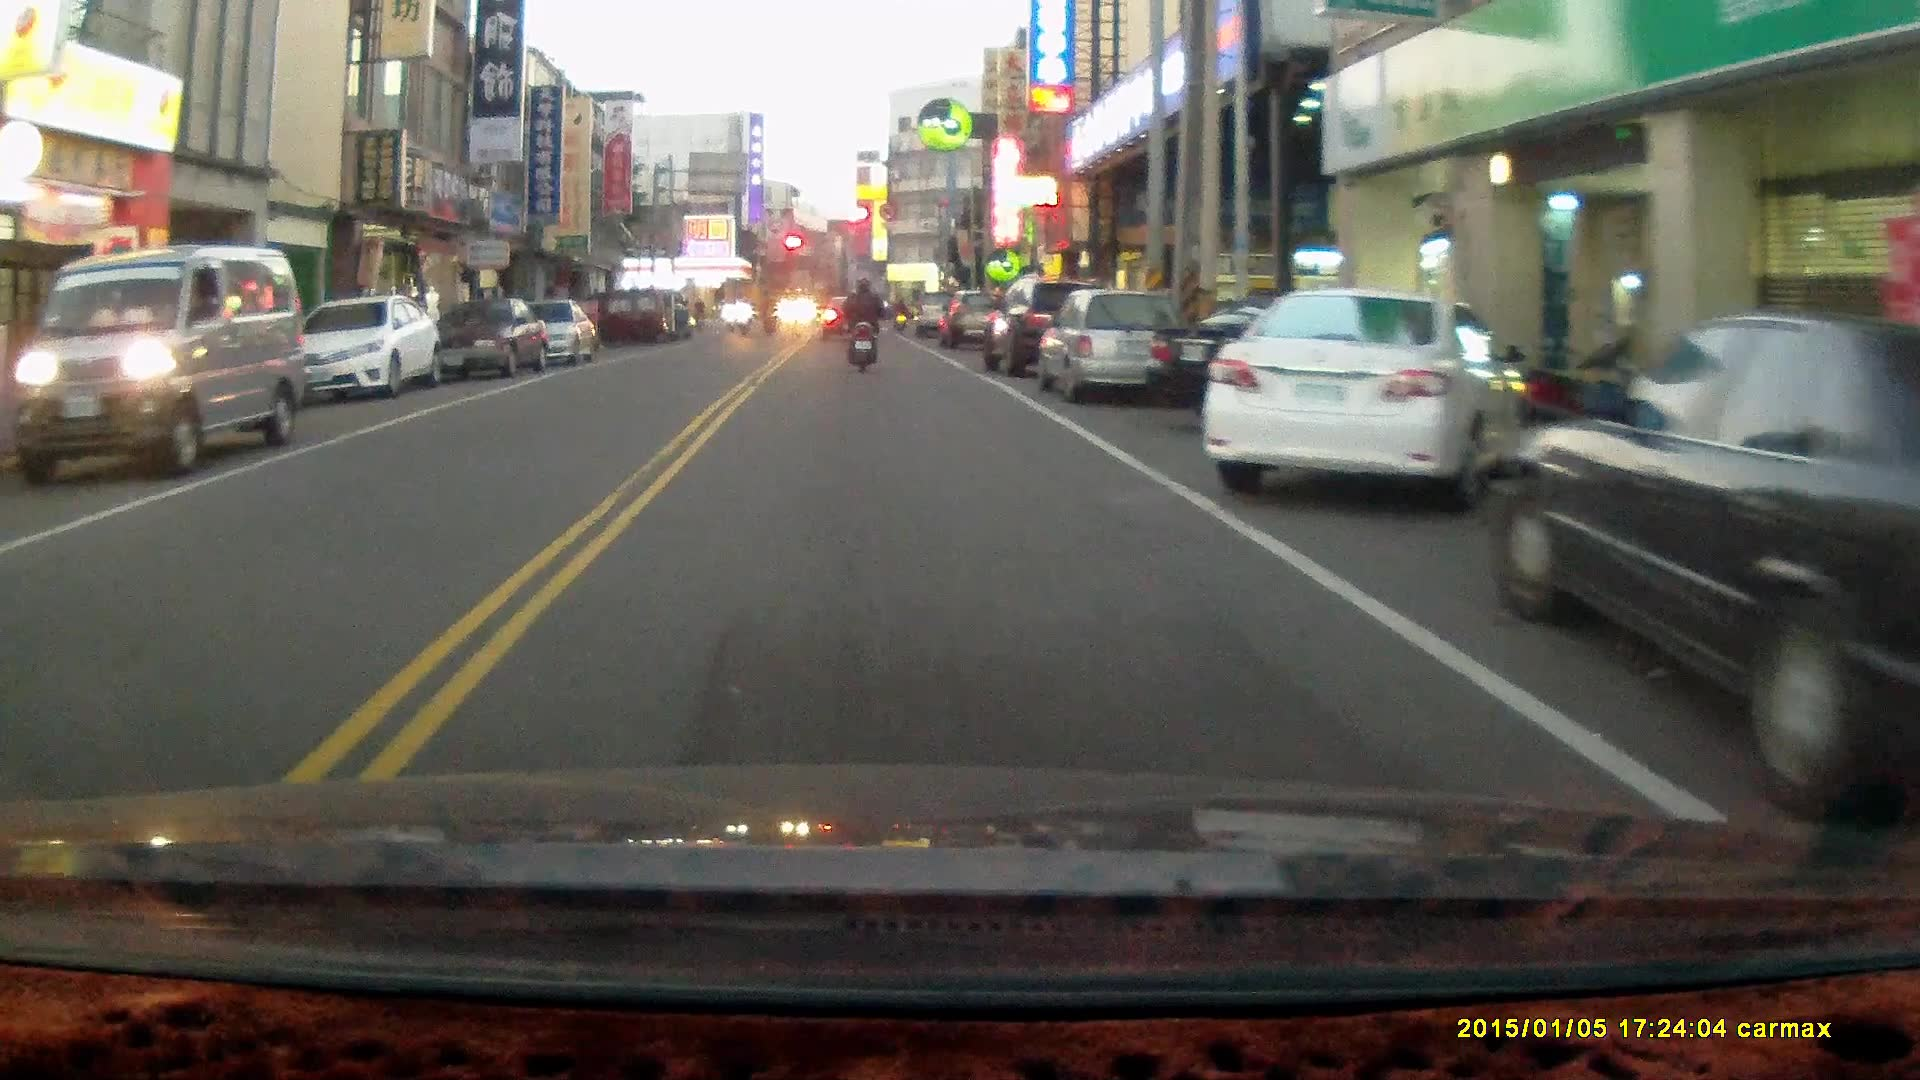rider: (841, 276, 885, 377), (730, 295, 753, 336)
vehicle: (1479, 313, 1920, 786), (1203, 290, 1521, 513), (7, 244, 306, 477), (1140, 298, 1469, 435), (1038, 290, 1192, 400), (290, 294, 441, 404), (977, 286, 1119, 377), (428, 297, 552, 384), (498, 301, 595, 374)
